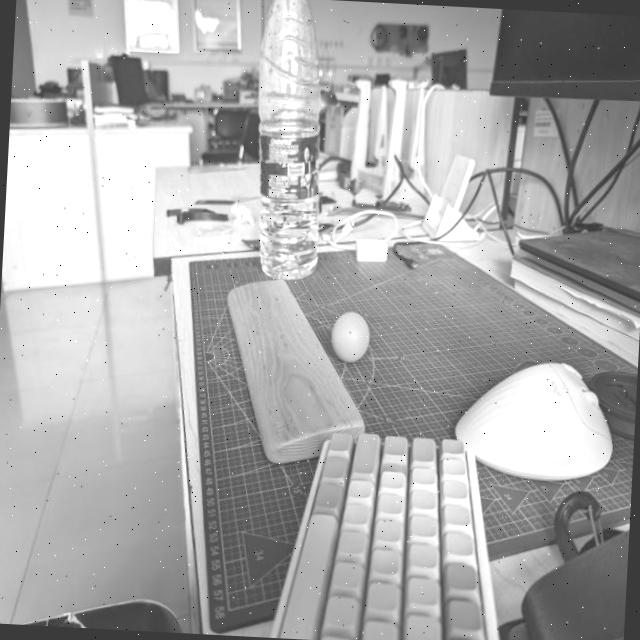ping-pong-ball: (330, 312, 372, 366)
